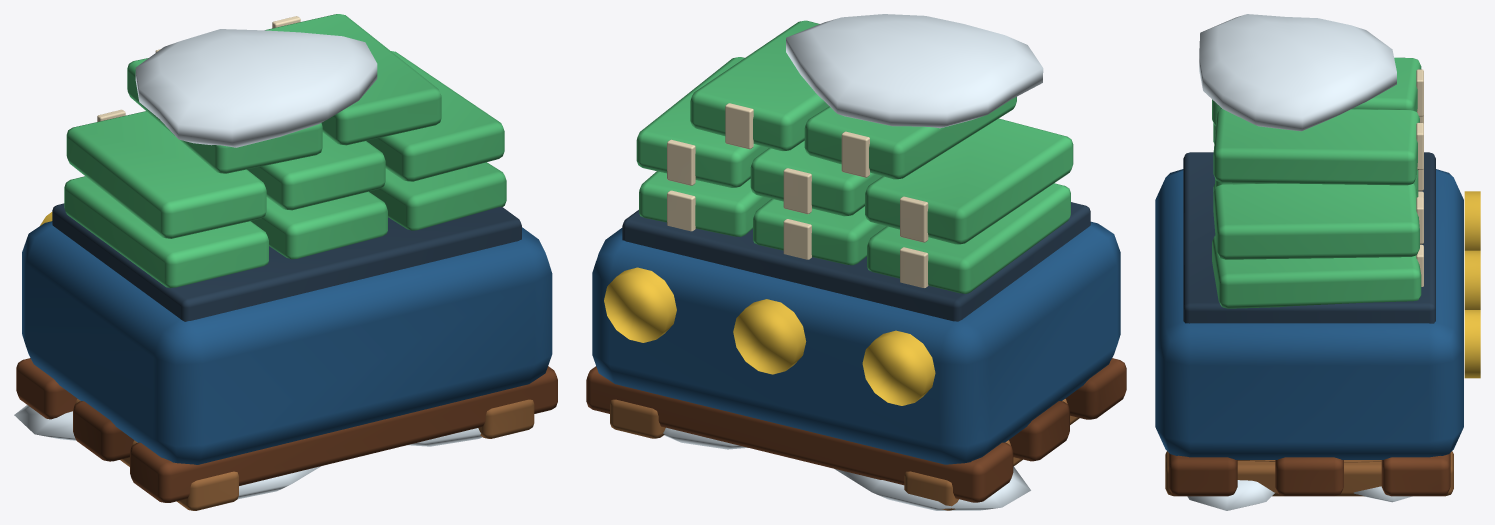
File: money_stack.glb
3 views of the same model, side by side, from view 1: azimuth 30°, elevation 25°; view 2: azimuth 150°, elevation 25°; view 3: azimuth 270°, elevation 25° (orthographic). The views are drawn at different scales.
Visible parts, largest first — view 1: money_stack; view 2: money_stack; view 3: money_stack.
Boxes of the visible parts, <box> form: money_stack: <box>14,14,557,510</box>; money_stack: <box>586,14,1126,510</box>; money_stack: <box>1155,14,1480,510</box>.
Size of the model in its own units: 1.32 by 1.16 by 0.9275.
